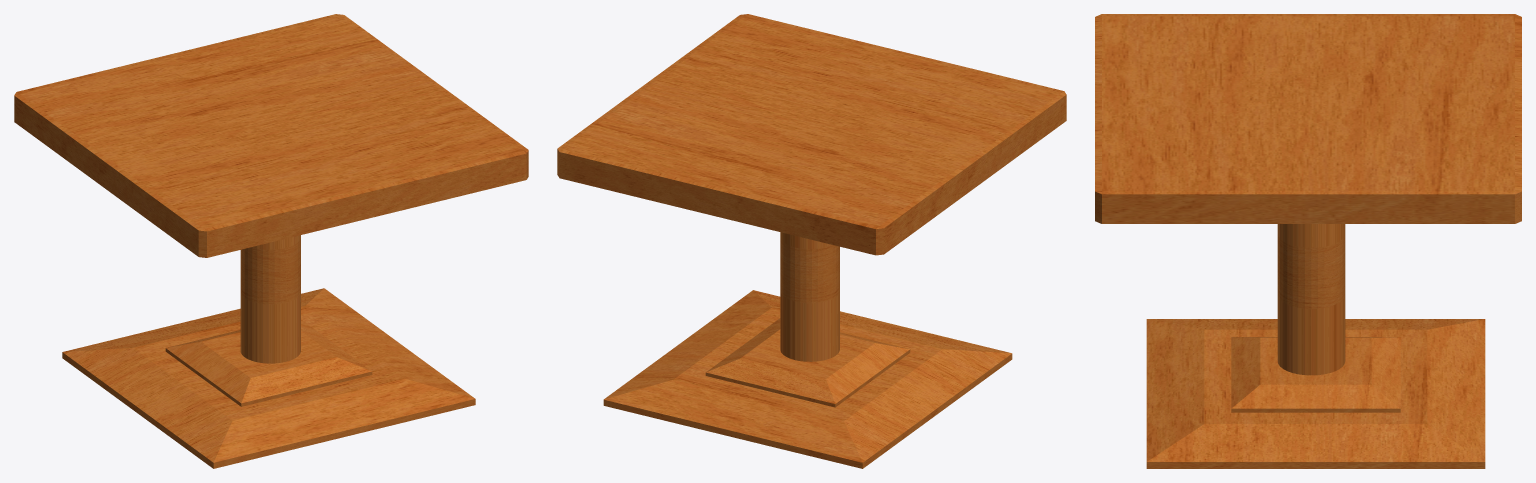
The model's file is dai.glb.
3 renders of one model, left to right at view 1: azimuth 30°, elevation 25°; view 2: azimuth 150°, elevation 25°; view 3: azimuth 270°, elevation 25°, orthographic. The views are drawn at different scales.
Visible parts, largest first — view 1: 立方体.002; view 2: 立方体.002; view 3: 立方体.002.
Boxes of the visible parts, <box> form: 立方体.002: <box>14,14,528,468</box>; 立方体.002: <box>557,14,1066,468</box>; 立方体.002: <box>1095,14,1521,468</box>.
Size of the model in its own units: 12.6 by 9.55 by 12.6.
Materials: 1 (1 with a texture image).
